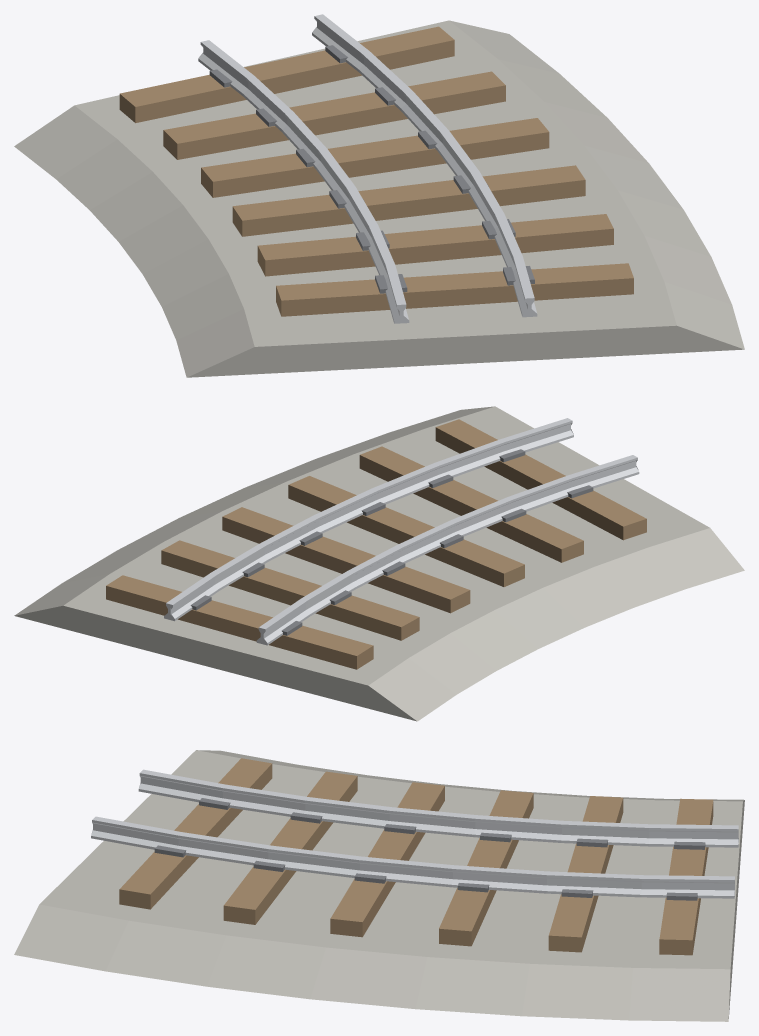
The model's file is steam-era-railway-and-rolling-stock-narrow-track-curve-17448cb3.glb.
3 renders of one model, top to bottom at view 1: azimuth 30°, elevation 25°; view 2: azimuth 150°, elevation 25°; view 3: azimuth 270°, elevation 25°, orthographic. The views are drawn at different scales.
Visible parts, largest first — view 1: narrow-track-curve; view 2: narrow-track-curve; view 3: narrow-track-curve.
Part boxes in pixels (bbox=[...]): narrow-track-curve: bbox=[14, 14, 744, 377]; narrow-track-curve: bbox=[14, 406, 744, 721]; narrow-track-curve: bbox=[14, 750, 744, 1021].
Bounding box in the file's own units: 3.5 × 0.35 × 3.99.
